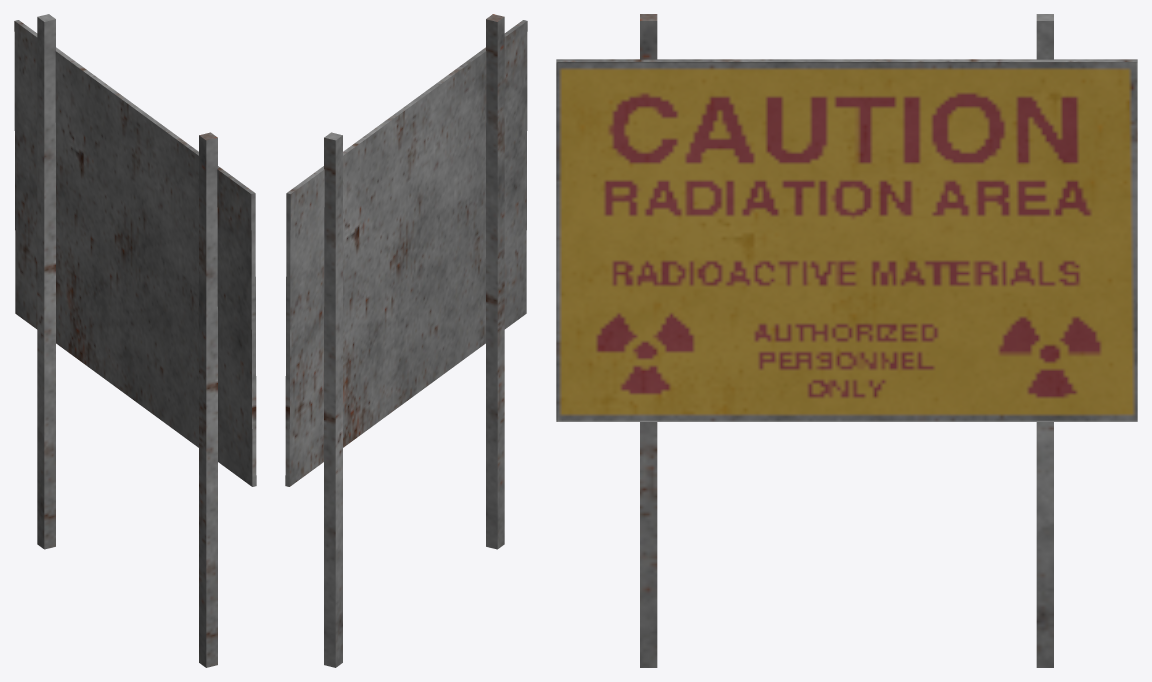
File: Sign_4.fbx
3 views of the same model, side by side, from view 1: azimuth 30°, elevation 25°; view 2: azimuth 150°, elevation 25°; view 3: azimuth 270°, elevation 25° (orthographic). The views are drawn at different scales.
Parts seen in each view (by area): view 1: Sign_4; view 2: Sign_4; view 3: Sign_4.
Boxes of the visible parts, bbox=[...] form: Sign_4: bbox=[14, 14, 256, 667]; Sign_4: bbox=[285, 14, 527, 667]; Sign_4: bbox=[556, 14, 1137, 667].
Size of the model in its own units: 5.94 by 183 by 149.
